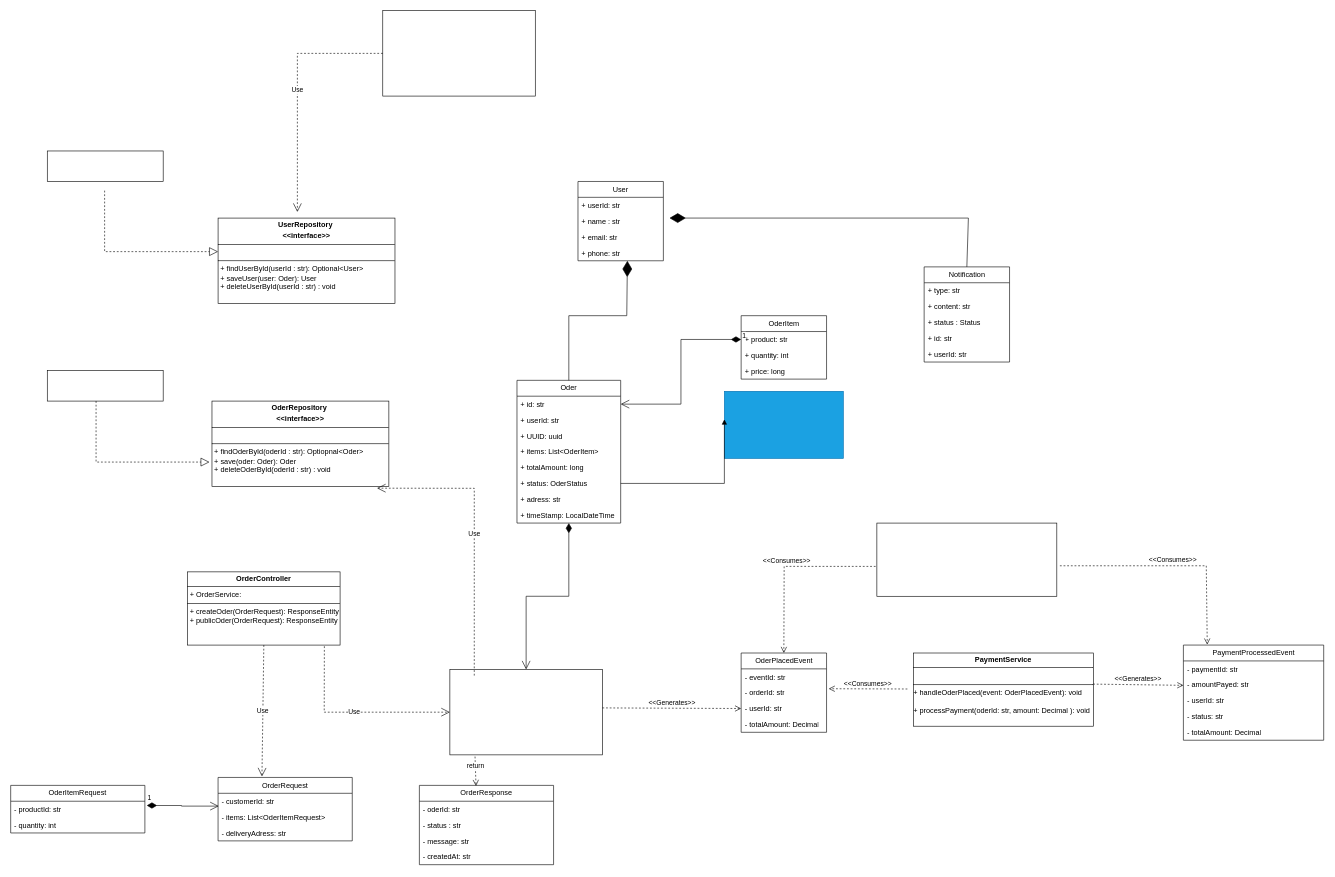
This 1335x877 diagram has some shape labels left out. The centre of each missing label's shape, as x and y in pixels:
NotificationService + sendNotification(event: Object): void: the point at 966,559
OrderService + OrderRepository: + placeOder(request :OrderRequest): void: the point at 525,712
Status enum_values : PENDING, PAYMENT_CONFIRMED, PREPARING, SHIPPED, CANCELLED: the point at 783,424
UserService + UserRepository:: the point at 458,53
«interface» MongoDbRepository<Oder,str>: the point at 105,385
«interface» MongoDbRepository<User,str>: the point at 105,165
